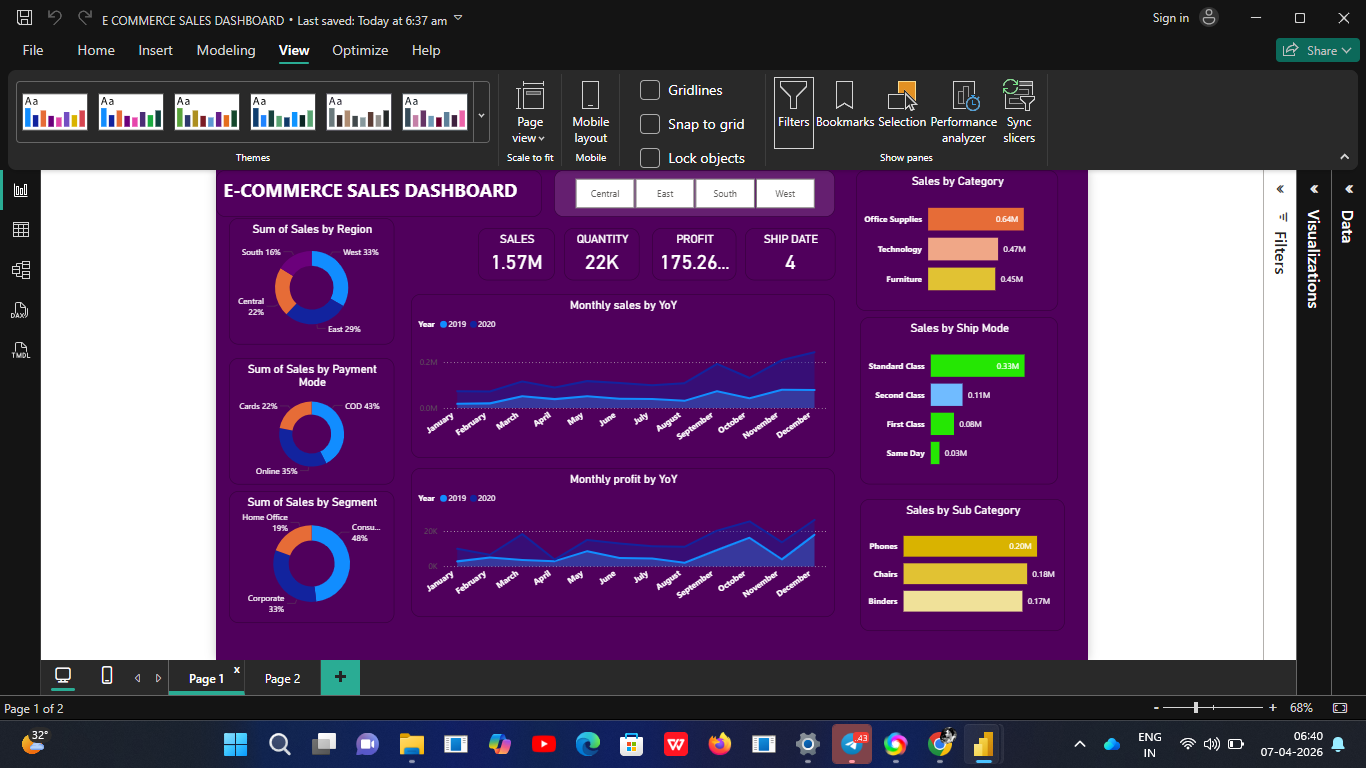

This screenshot's page, from the dashboard's own definition file:
{"tool":"powerbi","page":{"name":"Page 1","canvas":[1280,720],"ordinal":0},"visuals":[{"type":"clusteredBarChart","title":" Sales by Category","fields":{"Category":["SuperStore_Sales_Dataset (2).Category"],"Y":["Sum(SuperStore_Sales_Dataset (2).Sales)"]},"box":[940,0,297.1,207.1],"z":0},{"type":"clusteredBarChart","title":" Sales by Sub Category","fields":{"Category":["SuperStore_Sales_Dataset (2).Sub-Category"],"Y":["Sum(SuperStore_Sales_Dataset (2).Sales)"]},"box":[945.7,482.9,301.4,194.3],"z":1000},{"type":"clusteredBarChart","title":" Sales by Ship Mode","fields":{"Category":["SuperStore_Sales_Dataset (2).Ship Mode"],"Y":["Sum(SuperStore_Sales_Dataset (2).Sales)"]},"box":[945.7,215.7,291.4,245.7],"z":2000},{"type":"stackedAreaChart","title":" Monthly sales by YoY","fields":{"Y":["Sum(SuperStore_Sales_Dataset (2).Sales)"],"Category":["SuperStore_Sales_Dataset (2).Order Date.Variation.Date Hierarchy.Month","SuperStore_Sales_Dataset (2).Order Date.Variation.Date Hierarchy.Day"],"Series":["SuperStore_Sales_Dataset (2).Order Date.Variation.Date Hierarchy.Year"]},"box":[287.1,182.9,622.9,241.4],"z":3000},{"type":"stackedAreaChart","title":" Monthly profit by YoY","fields":{"Category":["SuperStore_Sales_Dataset (2).Order Date.Variation.Date Hierarchy.Month","SuperStore_Sales_Dataset (2).Order Date.Variation.Date Hierarchy.Day"],"Series":["SuperStore_Sales_Dataset (2).Order Date.Variation.Date Hierarchy.Year"],"Y":["Sum(SuperStore_Sales_Dataset (2).Profit)"]},"box":[287.1,437.1,622.9,218.6],"z":4000},{"type":"donutChart","fields":{"Category":["SuperStore_Sales_Dataset (2).Segment"],"Y":["Sum(SuperStore_Sales_Dataset (2).Sales)"]},"box":[18.6,471.4,242.9,194.3],"z":5000},{"type":"donutChart","fields":{"Category":["SuperStore_Sales_Dataset (2).Payment Mode"],"Y":["Sum(SuperStore_Sales_Dataset (2).Sales)"]},"box":[18.6,275.7,242.9,185.7],"z":6000},{"type":"slicer","fields":{"Values":["SuperStore_Sales_Dataset (2).Region"]},"box":[497.1,0,412.9,68.6],"z":7000},{"type":"textbox","box":[0,0,478.6,68.6],"z":8000},{"type":"card","title":"SALES","fields":{"Values":["Sum(SuperStore_Sales_Dataset (2).Sales)"]},"box":[384.3,85.7,112.9,77.1],"z":8001},{"type":"card","title":"QUANTITY","fields":{"Values":["Sum(SuperStore_Sales_Dataset (2).Quantity)"]},"box":[511.4,85.7,111.4,77.1],"z":8002},{"type":"card","title":"PROFIT","fields":{"Values":["Sum(SuperStore_Sales_Dataset (2).Profit)"]},"box":[640,85.7,124.3,77.1],"z":8003},{"type":"card","title":"SHIP DATE","fields":{"Values":["Avg(SuperStore_Sales_Dataset (2).AvgDelivery)"]},"box":[777.1,85.7,132.9,77.1],"z":8004},{"type":"donutChart","fields":{"Category":["SuperStore_Sales_Dataset (2).Region"],"Y":["Sum(SuperStore_Sales_Dataset (2).Sales)"]},"box":[18.6,70,242.9,185.7],"z":8005}]}

Visuals, with their boxes on the page's 1280x720 design canvas (x1, y1, x2, y2). These are canvas units, not pixel positions in the 1366x768 screenshot, which may show the page scaled, cropped or inside an application window:
" Sales by Category" clusteredBarChart: [x1=940, y1=0, x2=1237, y2=207]
" Sales by Sub Category" clusteredBarChart: [x1=946, y1=483, x2=1247, y2=677]
" Sales by Ship Mode" clusteredBarChart: [x1=946, y1=216, x2=1237, y2=461]
" Monthly sales by YoY" stackedAreaChart: [x1=287, y1=183, x2=910, y2=424]
" Monthly profit by YoY" stackedAreaChart: [x1=287, y1=437, x2=910, y2=656]
donutChart - SuperStore_Sales_Dataset (2).Segment x Sum(SuperStore_Sales_Dataset (2).Sales): [x1=19, y1=471, x2=262, y2=666]
donutChart - SuperStore_Sales_Dataset (2).Payment Mode x Sum(SuperStore_Sales_Dataset (2).Sales): [x1=19, y1=276, x2=262, y2=461]
slicer - SuperStore_Sales_Dataset (2).Region: [x1=497, y1=0, x2=910, y2=69]
textbox: [x1=0, y1=0, x2=479, y2=69]
"SALES" card: [x1=384, y1=86, x2=497, y2=163]
"QUANTITY" card: [x1=511, y1=86, x2=623, y2=163]
"PROFIT" card: [x1=640, y1=86, x2=764, y2=163]
"SHIP DATE" card: [x1=777, y1=86, x2=910, y2=163]
donutChart - SuperStore_Sales_Dataset (2).Region x Sum(SuperStore_Sales_Dataset (2).Sales): [x1=19, y1=70, x2=262, y2=256]
